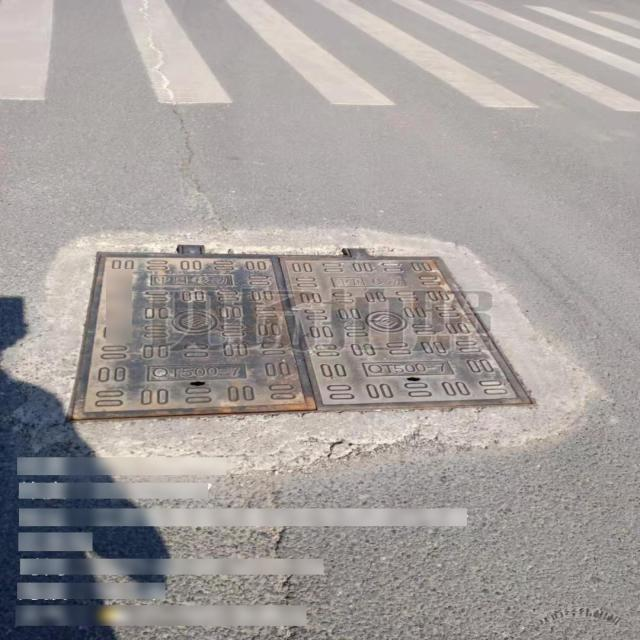Good: (64, 244, 537, 422)
